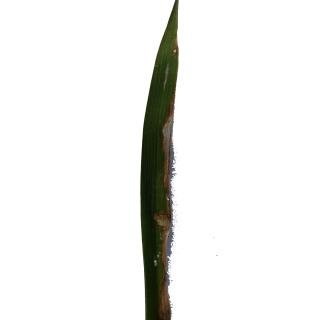Hawar-Daun: (159, 92, 177, 233), (151, 227, 177, 319)
